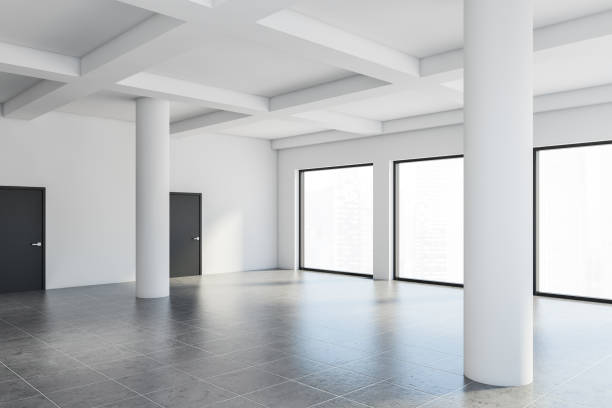door: (1, 186, 46, 294), (168, 192, 203, 278)
wall: (278, 102, 612, 305), (1, 105, 278, 296)
window: (389, 154, 491, 289), (532, 140, 612, 303), (296, 160, 373, 278)
